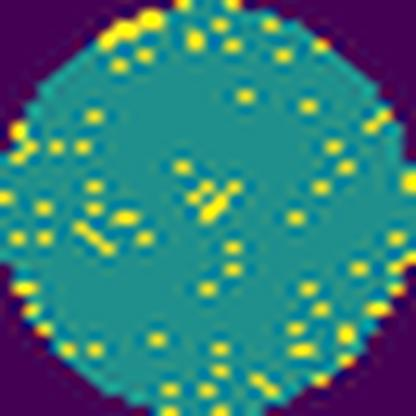Edge-Loc: (88, 3, 168, 56)
